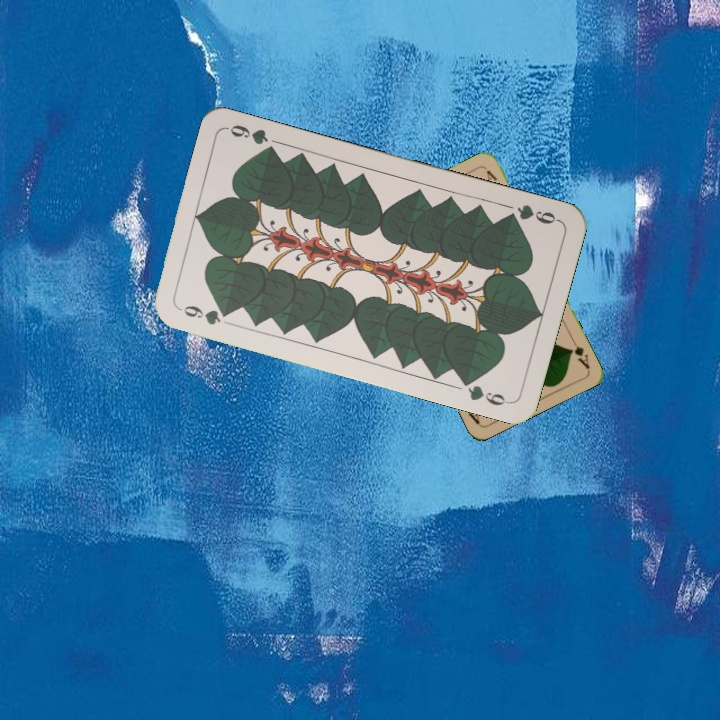G9: (501, 200, 562, 227), (174, 301, 234, 328)
GA: (566, 334, 593, 371)
